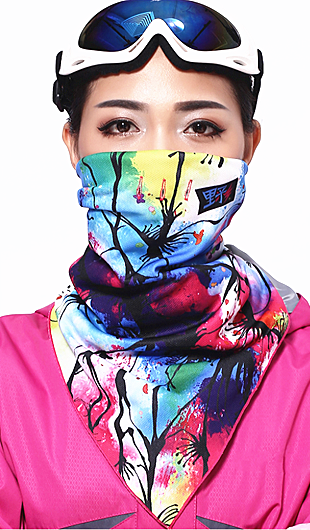face_mask: (83, 30, 242, 280)
